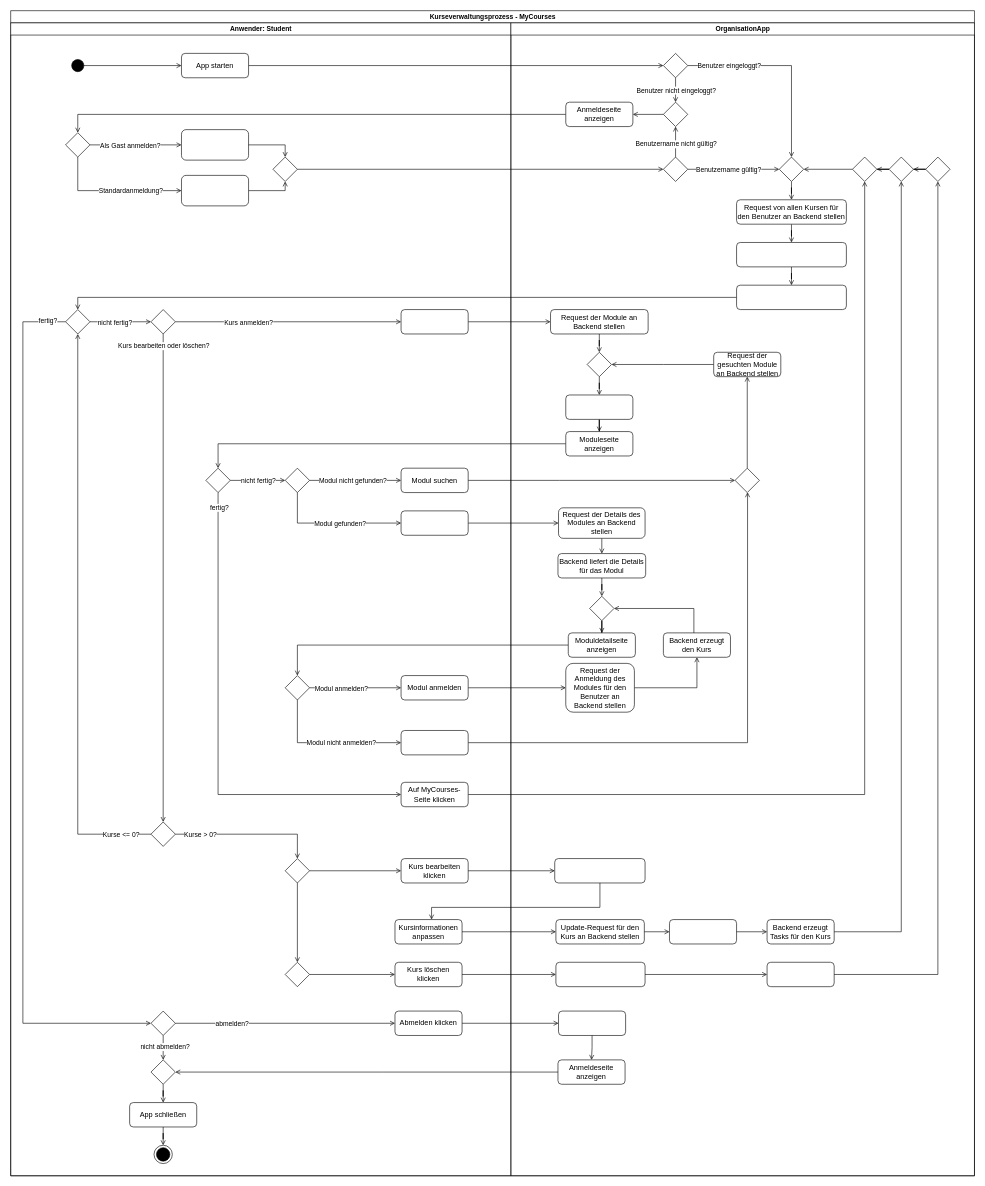
The diagram is 985 pixels wide and 1186 high, and some of its shapes have lost their labels. Here are the shapes that lost their labels. From the top down, the centre of each, then its label:
At [215,144]: "Als Gast forstsetzen drücken".
At [215,190]: "Benutzername eingeben und einloggen".
At [791,254]: "Backend liefert alle Kurse für den Benutzer".
At [791,297]: "Angemeldete Kurse anzeigen".
At [434,321]: "Kurs anmelden klicken".
At [599,406]: "Backend liefert die Module".
At [434,522]: "Gesuchtes Modul anklicken".
At [434,742]: "Zurück klicken".
At [599,870]: "Update dialog anzeigen".
At [703,931]: "Backend aktualisiert den Kurs".
At [600,974]: "Delete-Requestfür den Kurs an Backend stellen".
At [800,974]: "Backend löscht den Kurs für den Benutzer".
At [592,1022]: "Benutzer vergessen".
